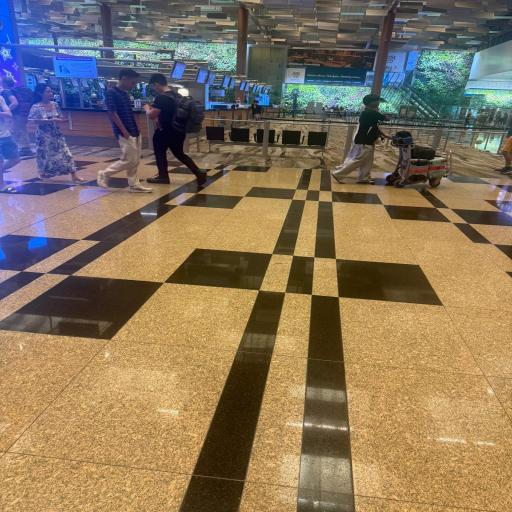person_left: (142, 73, 208, 187), (3, 76, 35, 156)
person_right: (96, 69, 154, 194), (26, 83, 87, 183), (0, 94, 22, 194)
person_with_luggage_right: (332, 94, 452, 188)
